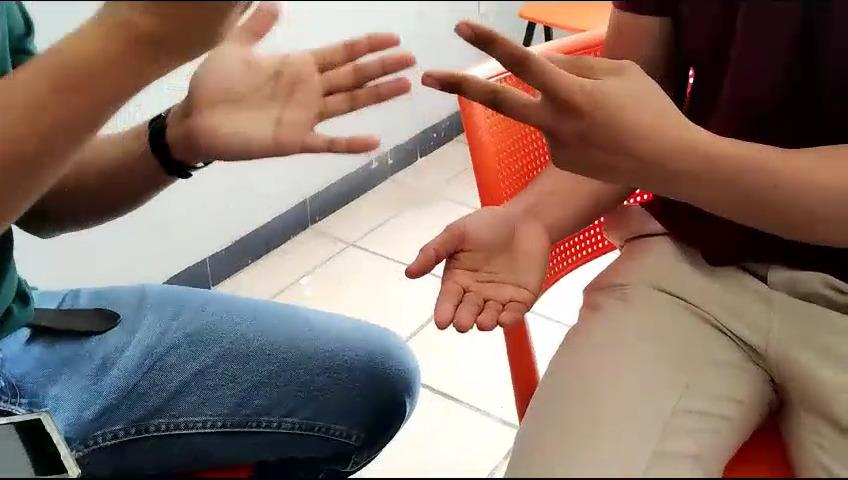Paper: (398, 192, 564, 363), (189, 50, 399, 178)
Scissor: (421, 1, 693, 231)
